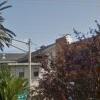Tree: (39, 34, 100, 100)
